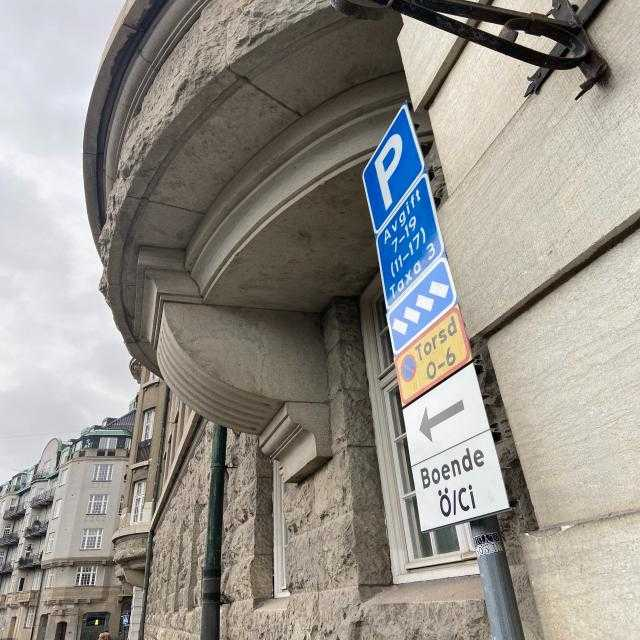psign: (358, 106, 430, 232)
